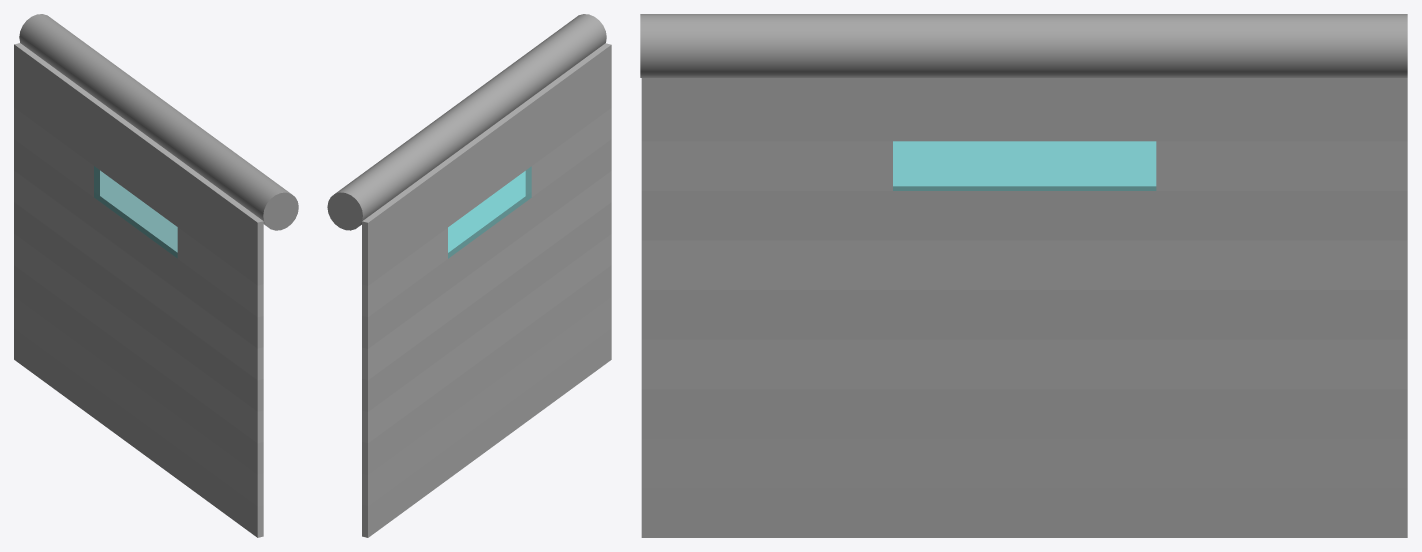
Rendered from Porte_de_Garage (1).fbx.
The picture shows the model from 3 angles, left to right: view 1: azimuth 30°, elevation 25°; view 2: azimuth 150°, elevation 25°; view 3: azimuth 270°, elevation 25°; orthographic projection. The views are drawn at different scales.
Visible parts, largest first — view 1: Rouleau, Panneaux_1, Panneaux_4, Panneaux_5, Panneaux_7, Panneaux_9, Panneaux_6, Panneaux_8, Panneaux_2, Panneaux_10, Panneaux_3; view 2: Rouleau, Panneaux_1, Panneaux_4, Panneaux_5, Panneaux_6, Panneaux_7, Panneaux_2, Panneaux_8, Panneaux_9, Panneaux_10, Panneaux_3; view 3: Rouleau, Panneaux_4, Panneaux_2, Panneaux_7, Panneaux_9, Panneaux_3, Panneaux_5, Panneaux_6, Panneaux_8, Panneaux_10, Panneaux_1.
Part boxes in pixels (<box>): Rouleau: <box>19,14,298,230</box>; Panneaux_1: <box>14,43,263,253</box>; Panneaux_4: <box>14,139,263,348</box>; Panneaux_5: <box>14,170,263,380</box>; Panneaux_7: <box>14,234,263,443</box>; Panneaux_9: <box>14,297,263,506</box>; Panneaux_6: <box>14,202,263,411</box>; Panneaux_8: <box>14,265,263,474</box>; Panneaux_2: <box>14,76,263,285</box>; Panneaux_10: <box>14,328,263,537</box>; Panneaux_3: <box>14,107,263,316</box>; Rouleau: <box>327,14,606,230</box>; Panneaux_1: <box>362,43,611,254</box>; Panneaux_4: <box>362,139,611,348</box>; Panneaux_5: <box>362,171,611,380</box>; Panneaux_6: <box>362,202,611,411</box>; Panneaux_7: <box>362,234,611,443</box>; Panneaux_2: <box>362,76,611,285</box>; Panneaux_8: <box>362,265,611,474</box>; Panneaux_9: <box>362,297,611,506</box>; Panneaux_10: <box>362,328,611,537</box>; Panneaux_3: <box>362,108,611,317</box>; Rouleau: <box>640,14,1407,77</box>; Panneaux_4: <box>641,186,1407,240</box>; Panneaux_2: <box>641,91,1407,141</box>; Panneaux_7: <box>641,339,1407,389</box>; Panneaux_9: <box>641,438,1407,488</box>; Panneaux_3: <box>641,141,1407,190</box>; Panneaux_5: <box>641,240,1407,289</box>; Panneaux_6: <box>641,290,1407,339</box>; Panneaux_8: <box>641,389,1407,438</box>; Panneaux_10: <box>641,488,1407,537</box>; Panneaux_1: <box>641,78,1407,91</box>.
Bounding box in the file's own units: 0.6763 × 5.39 × 7.01.
